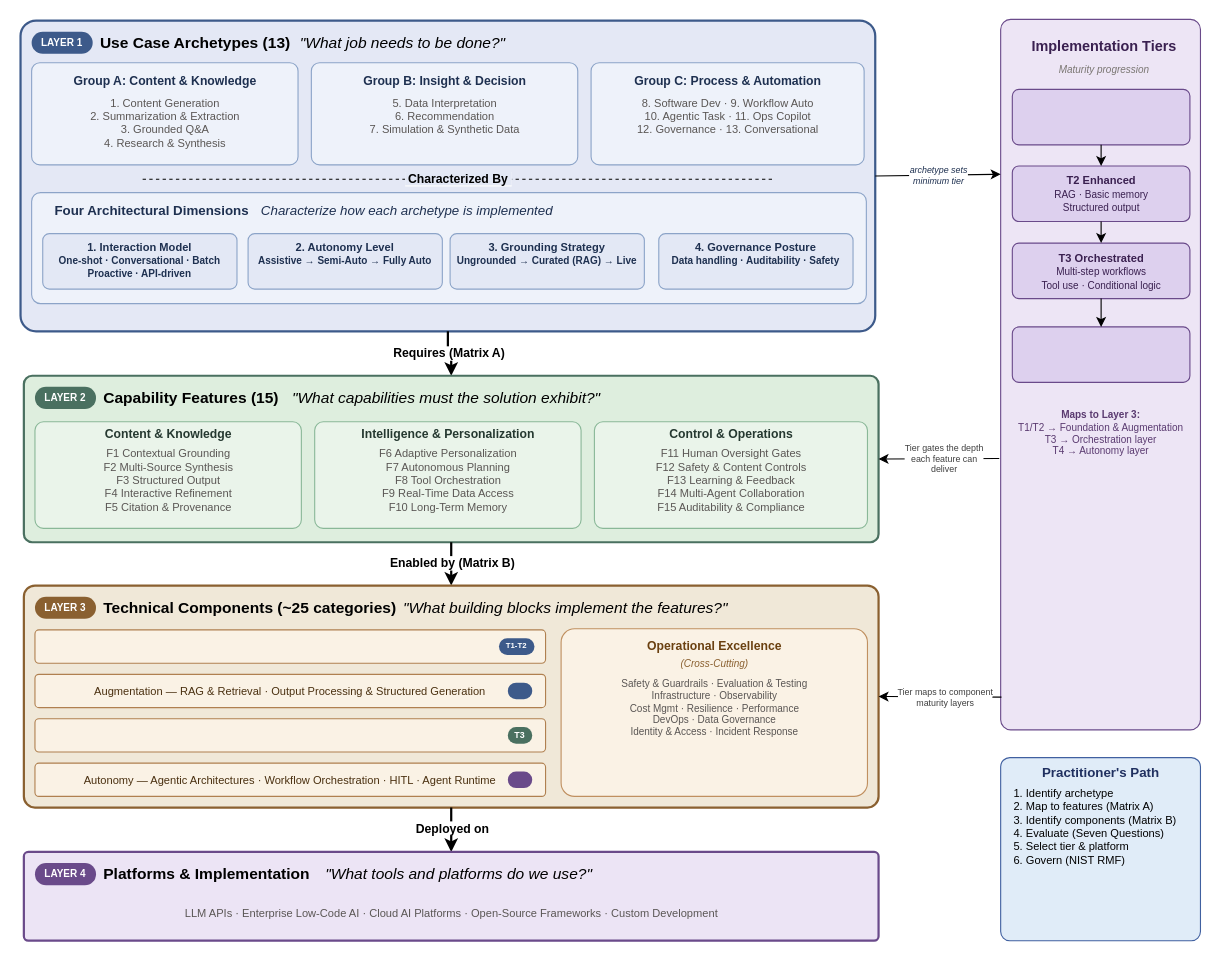
Image size: 1224x961. Some labels were removed from this diagram. The box of each missing label's shape, as (x1, y1, x2, y2) in pixels:
Foundation — Foundation Models · Prompting · Model Selection & Customization: (34, 629, 546, 663)
Orchestration — Context Management · Memory · Reasoning & Planning · Tool Use: (34, 718, 546, 752)
T1 Basic Single LLM call Prompt engineering: (1011, 88, 1190, 145)
T2: (507, 682, 532, 699)
T4: (507, 771, 532, 788)
T4 Agentic Autonomous planning Multi-agent · Self-correction: (1011, 326, 1190, 382)
